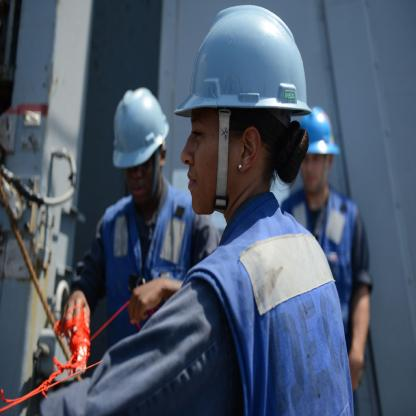Helmet: (176, 3, 315, 223), (112, 88, 169, 206), (292, 107, 342, 196)
